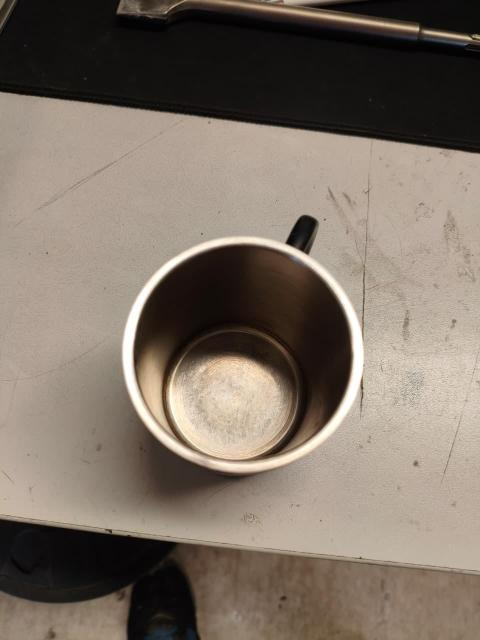Metal: (118, 213, 370, 503)
